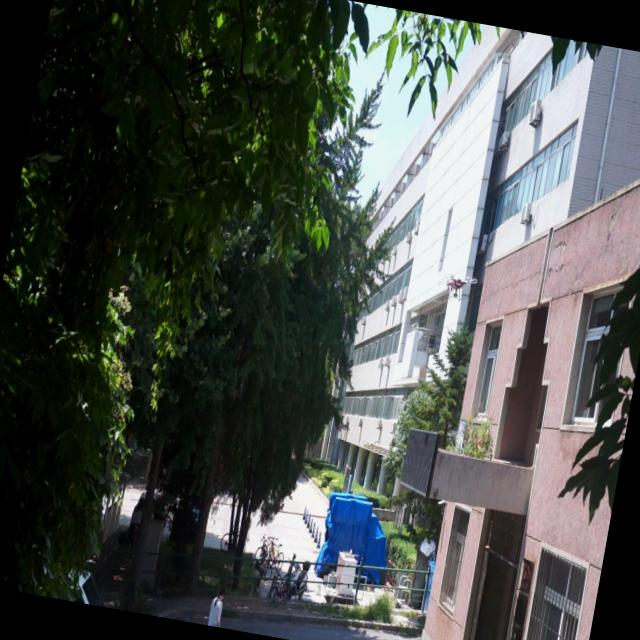drone: (434, 266, 479, 305)
